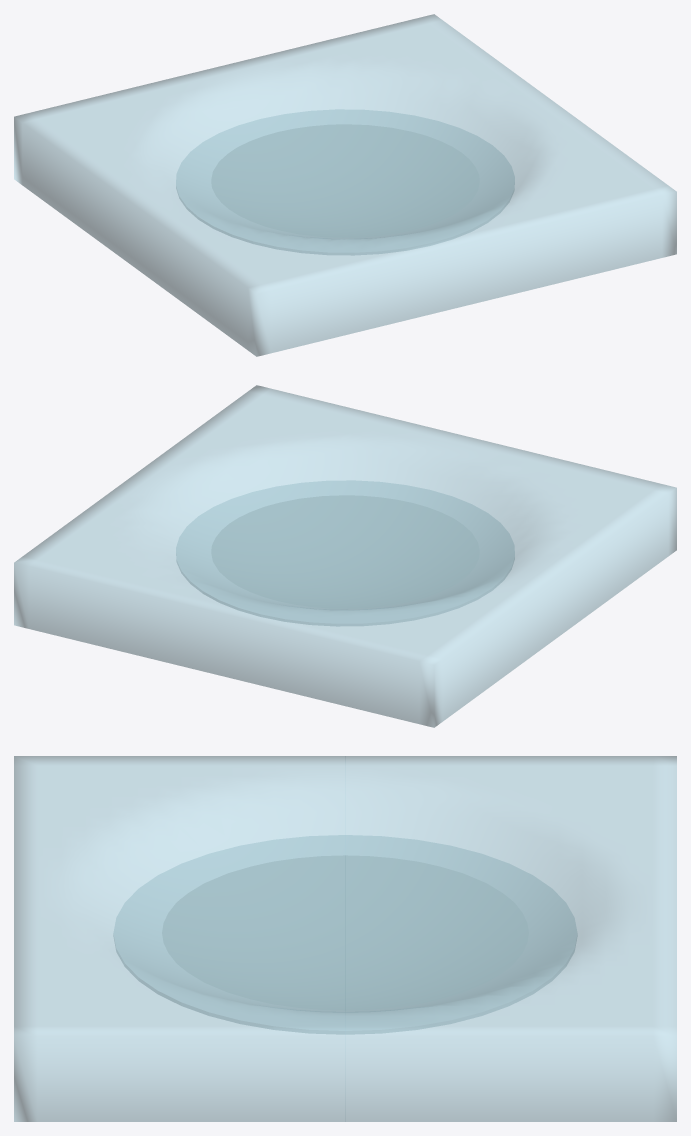
File: alpine-and-arctic-biomes-melt-pond-ice-692a8dce__21052.glb
3 renders of one model, top to bottom at view 1: azimuth 30°, elevation 25°; view 2: azimuth 150°, elevation 25°; view 3: azimuth 270°, elevation 25°, orthographic. The views are drawn at different scales.
Visible parts, largest first — view 1: melt-pond-ice; view 2: melt-pond-ice; view 3: melt-pond-ice.
Part boxes in pixels (x1,y1,x2,y2): melt-pond-ice: (14, 14, 676, 356); melt-pond-ice: (14, 385, 676, 727); melt-pond-ice: (14, 756, 676, 1121).
Bounding box in the file's own units: 4 × 0.5698 × 4.
